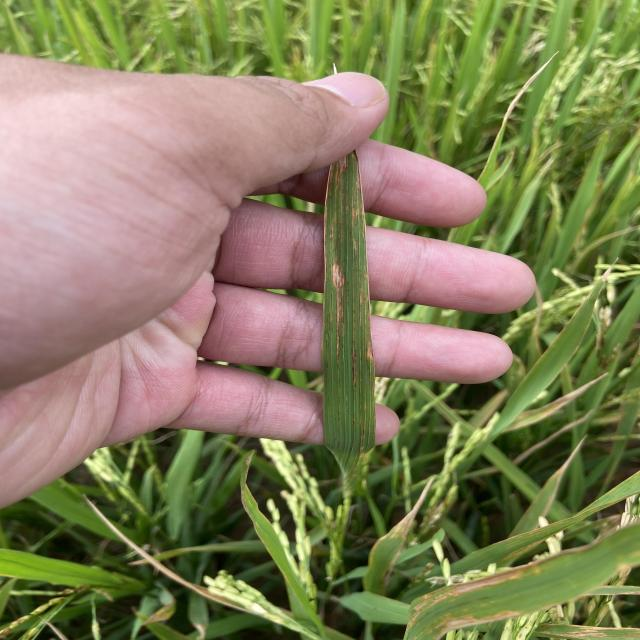Dom soc vi khuan: (330, 264, 346, 368), (352, 184, 359, 271), (351, 309, 357, 389), (339, 184, 344, 246), (325, 315, 330, 367), (359, 270, 363, 327), (328, 292, 333, 333), (330, 219, 334, 263), (346, 186, 350, 226)
